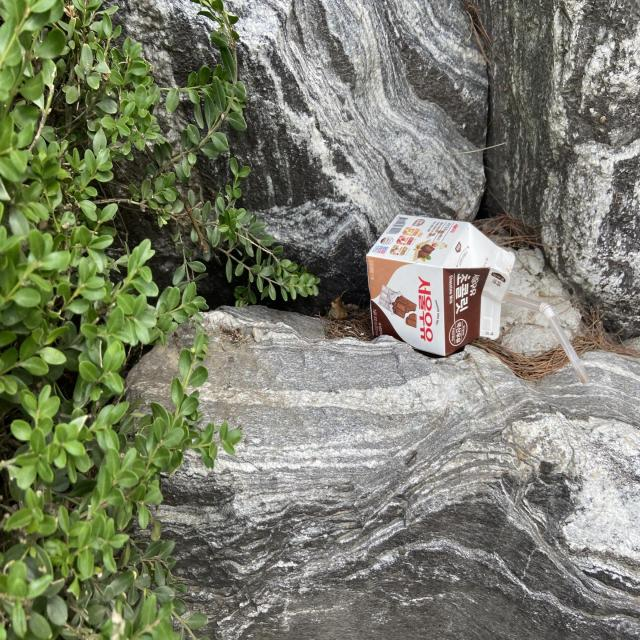paperpack: (366, 216, 515, 356)
